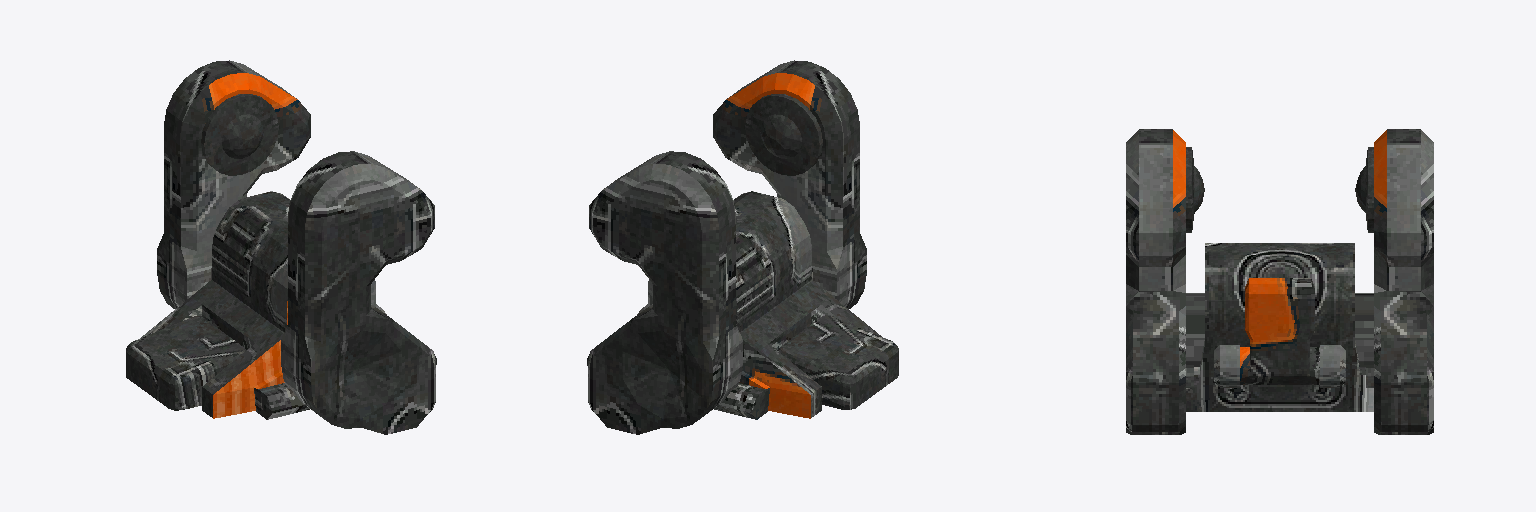
3 renders of one model, left to right at view 1: azimuth 30°, elevation 25°; view 2: azimuth 150°, elevation 25°; view 3: azimuth 270°, elevation 25°, orthographic.
Visible parts, largest first — view 1: unsc_iron_sights_magnum.001; view 2: unsc_iron_sights_magnum.001; view 3: unsc_iron_sights_magnum.001.
Boxes of the visible parts, <box> form: unsc_iron_sights_magnum.001: <box>126,60,436,434</box>; unsc_iron_sights_magnum.001: <box>587,60,898,434</box>; unsc_iron_sights_magnum.001: <box>1126,129,1433,434</box>.
Bounding box in the file's own units: 0.0121 × 0.0145 × 0.0148.
1 materials, 1 textured.